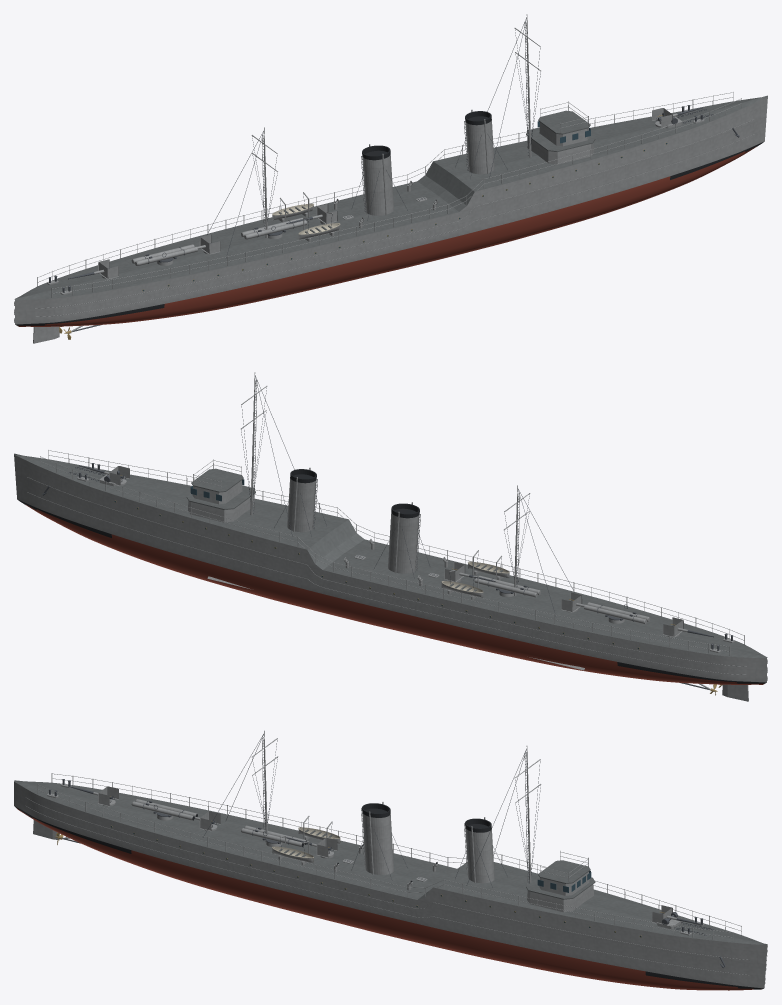
Rendered from palestro.glb.
3 views of the same model, one above another, from view 1: azimuth 30°, elevation 25°; view 2: azimuth 150°, elevation 25°; view 3: azimuth 330°, elevation 25° (orthographic).
Visible parts, largest first — view 1: Palestro class; view 2: Palestro class; view 3: Palestro class.
Boxes of the visible parts, <box> form: Palestro class: <box>14,14,767,343</box>; Palestro class: <box>14,372,767,701</box>; Palestro class: <box>14,730,767,990</box>.
Size of the model in its own units: 81.9 by 21.9 by 8.08.
8 materials, 2 textured.
